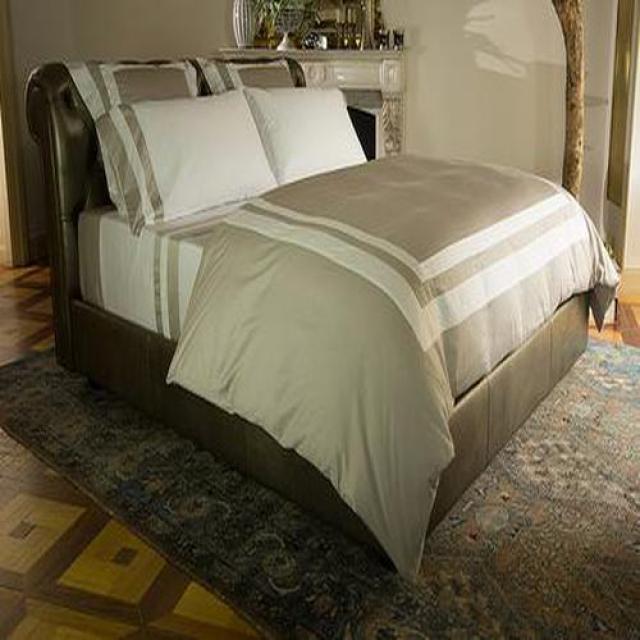bed: (24, 58, 620, 585)
